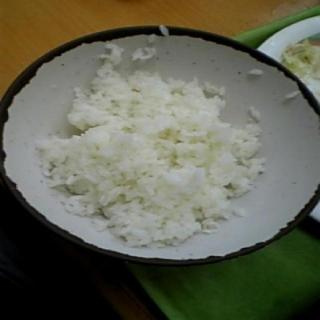Nasi: (35, 42, 271, 250)
